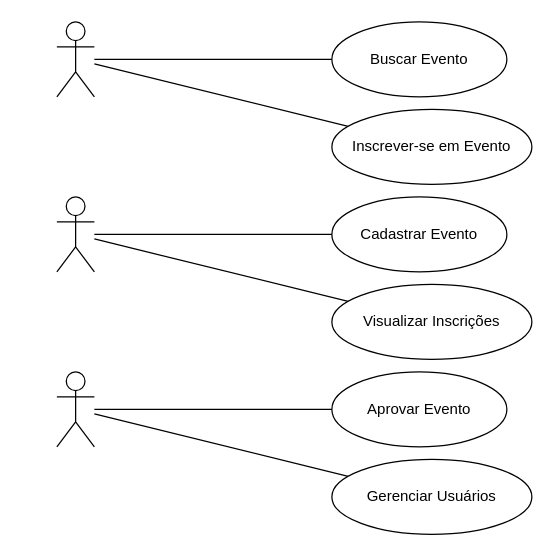
Some shapes in this 554 by 556 pixel diagram are drawn without their labels. The box of each missing label's shape, as (x1, y1, x2, y2) in pixels:
Administrador: (56, 371, 94, 447)
Organizador: (56, 196, 94, 272)
Usuário Comum: (56, 21, 94, 97)
